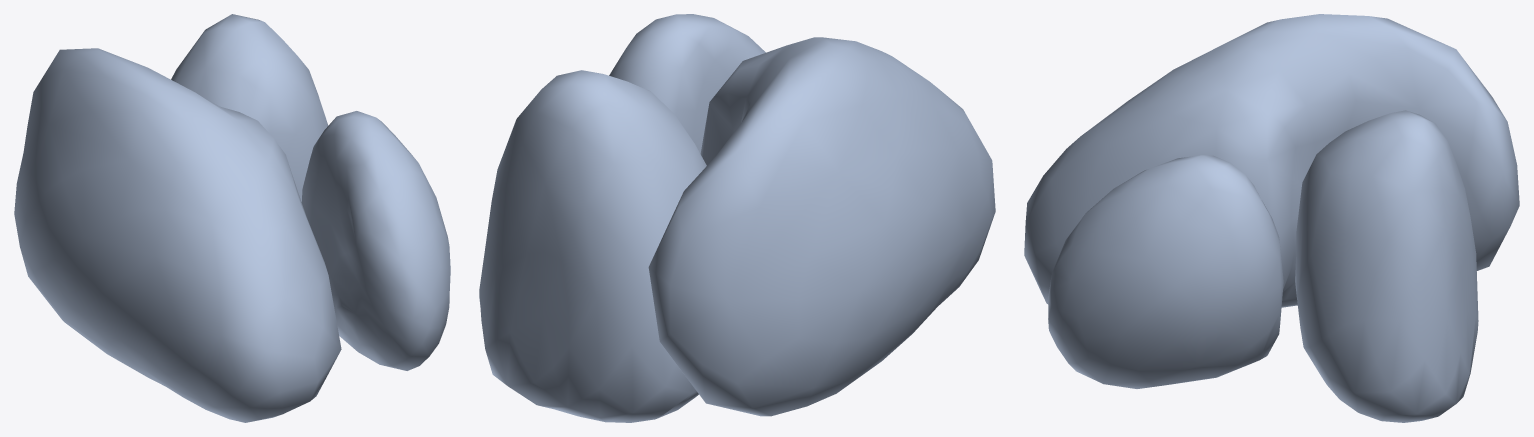
The picture shows the model from 3 angles, left to right: view 1: azimuth 30°, elevation 25°; view 2: azimuth 150°, elevation 25°; view 3: azimuth 270°, elevation 25°; orthographic projection. The views are drawn at different scales.
Visible parts, largest first — view 1: 左侧筛骨后群小房; view 2: 左侧筛骨后群小房; view 3: 左侧筛骨后群小房.
Part boxes in pixels (box(x1,y1,x2,y2)): 左侧筛骨后群小房: box(14, 14, 450, 422); 左侧筛骨后群小房: box(479, 14, 995, 422); 左侧筛骨后群小房: box(1024, 14, 1519, 422).
Bounding box in the file's own units: 0.0141 × 0.0124 × 0.0181.
